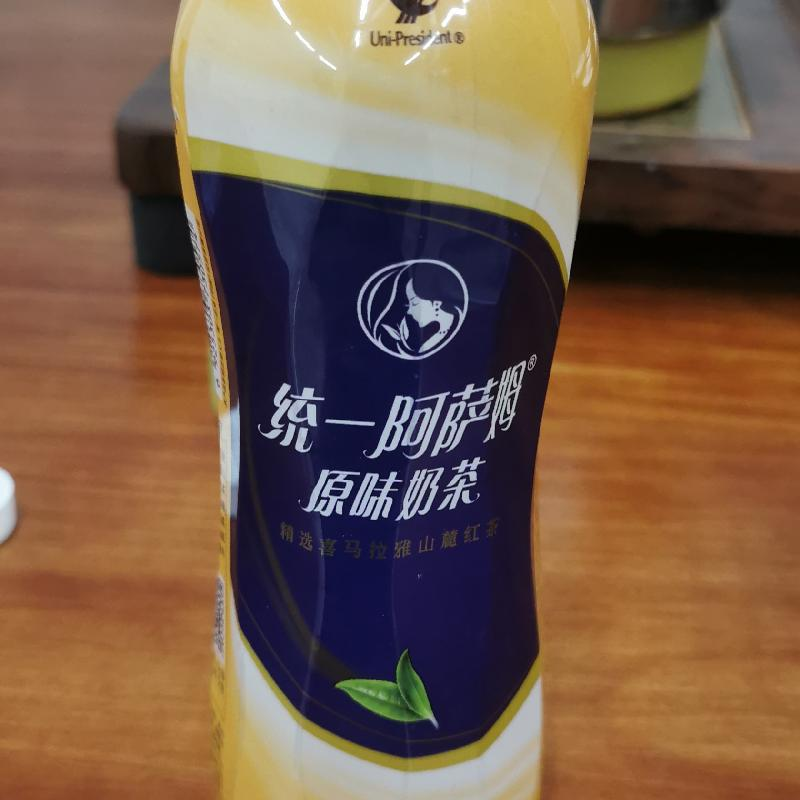bottles: (169, 0, 606, 799)
